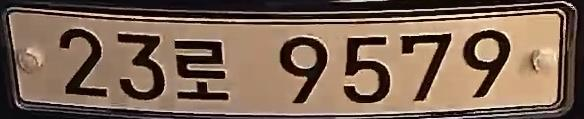2: (56, 23, 116, 102)
3: (112, 26, 172, 106)
5: (338, 30, 397, 106)
7: (398, 29, 455, 106)
9: (455, 24, 517, 100), (274, 32, 334, 108)
로: (170, 34, 238, 106)
